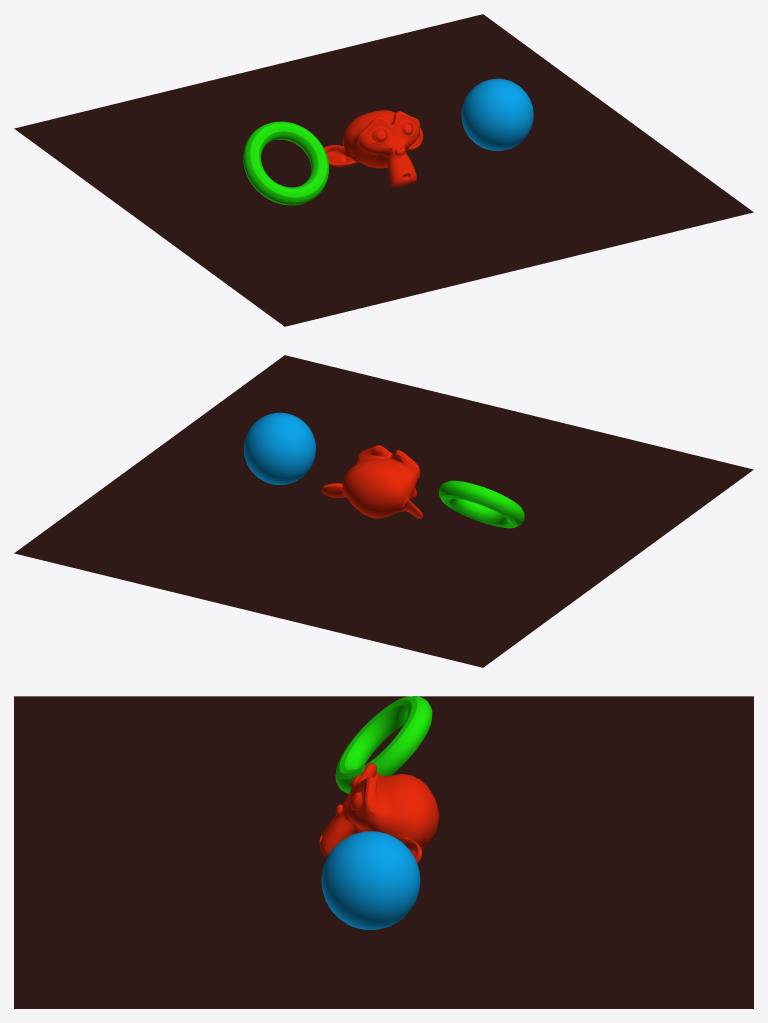
The model's file is escena.glb.
3 renders of one model, top to bottom at view 1: azimuth 30°, elevation 25°; view 2: azimuth 150°, elevation 25°; view 3: azimuth 270°, elevation 25°, orthographic. The views are drawn at different scales.
Parts seen in each view (by area): view 1: mesa, b, a, c; view 2: mesa, b, a, c; view 3: mesa, a, b, c.
Part boxes in pixels (x1,y1,x2,y2): mesa: [14, 14, 753, 326]; b: [324, 110, 423, 186]; a: [461, 78, 533, 150]; c: [243, 121, 329, 205]; mesa: [14, 355, 753, 667]; b: [321, 445, 423, 518]; a: [243, 412, 315, 484]; c: [438, 480, 524, 528]; mesa: [14, 696, 753, 1008]; a: [321, 831, 420, 929]; b: [319, 763, 439, 863]; c: [335, 696, 432, 793].
Size of the model in its own units: 14.94 by 2 by 14.94.
